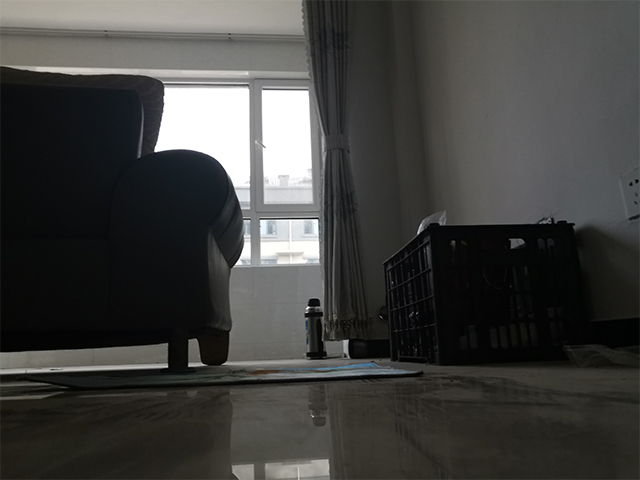carpet: (12, 358, 425, 390)
curtain: (300, 1, 374, 343)
sofa: (1, 65, 246, 377)
